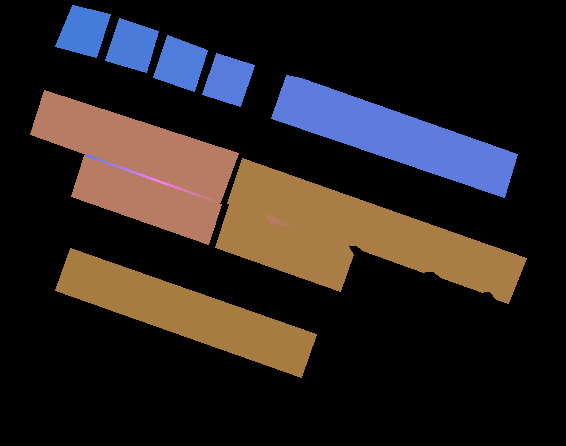parkingspot: (227, 158, 526, 303), (55, 248, 316, 377), (271, 75, 517, 197), (30, 90, 238, 202), (71, 155, 221, 244), (215, 204, 353, 291), (153, 35, 207, 91), (105, 18, 158, 72), (55, 5, 110, 57), (202, 53, 254, 106)
